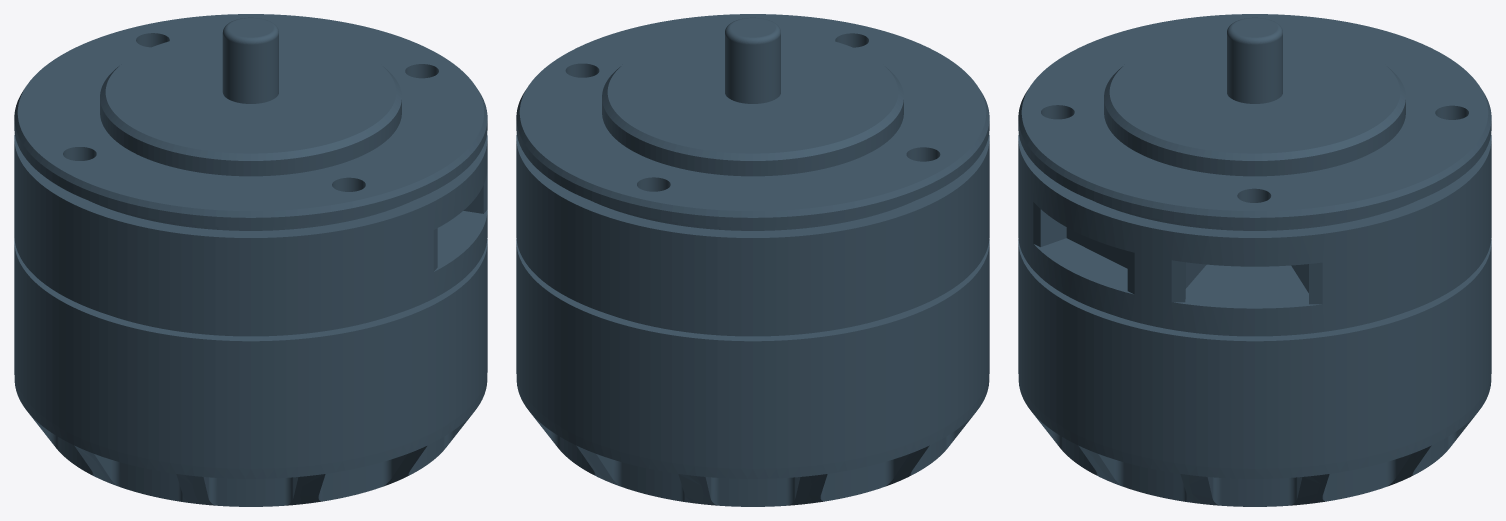
The model's file is m3508-body.glb.
3 renders of one model, left to right at view 1: azimuth 30°, elevation 25°; view 2: azimuth 150°, elevation 25°; view 3: azimuth 270°, elevation 25°, orthographic.
Visible parts, largest first — view 1: M3508_body_reference; view 2: M3508_body_reference; view 3: M3508_body_reference.
Boxes of the visible parts, <box> form: M3508_body_reference: <box>14,14,487,506</box>; M3508_body_reference: <box>516,14,989,506</box>; M3508_body_reference: <box>1018,14,1491,506</box>.
Size of the model in its own units: 42 by 43.4 by 41.99.
